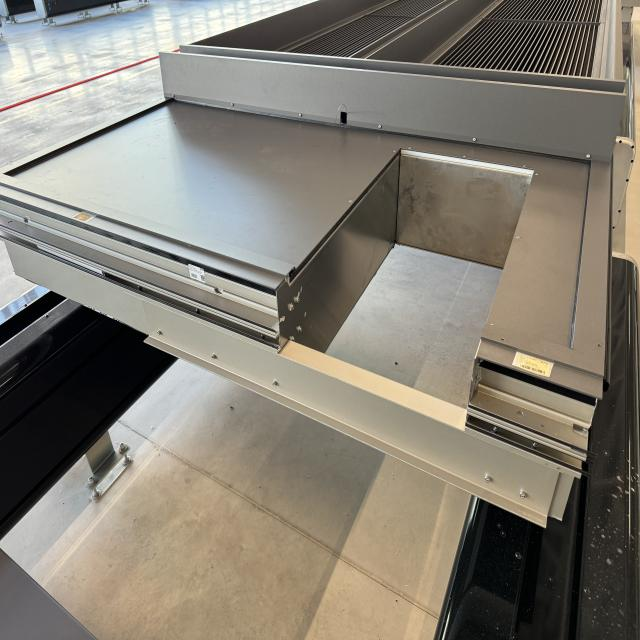ok: (1, 0, 638, 531)
